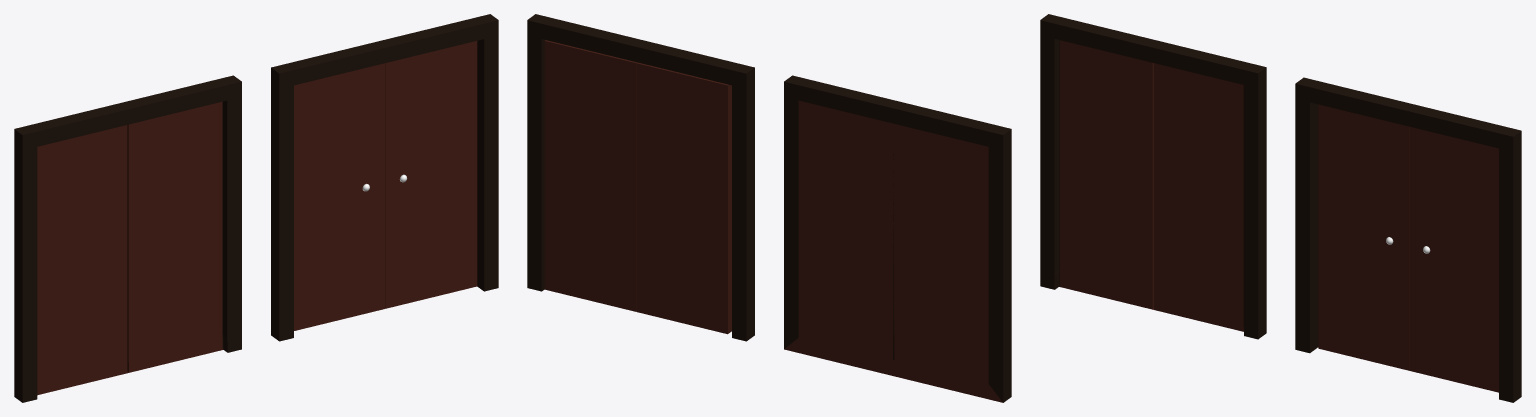
Rendered from Double Door Openable v002.FBX.
3 views of the same model, side by side, from view 1: azimuth 30°, elevation 25°; view 2: azimuth 150°, elevation 25°; view 3: azimuth 330°, elevation 25° (orthographic).
Visible parts, largest first — view 1: Double Door Closed, Door 001, Door 002, Double Door Openable Frame; view 2: Double Door Closed, Door 002, Door 001, Double Door Openable Frame; view 3: Double Door Closed, Door 002, Door 001, Double Door Openable Frame.
Part boxes in pixels (left/top/right/bottom): Double Door Closed: left=14, top=75, right=241, bottom=402; Door 001: left=385, top=41, right=477, bottom=308; Door 002: left=294, top=63, right=385, bottom=330; Double Door Openable Frame: left=271, top=14, right=498, bottom=341; Double Door Closed: left=784, top=75, right=1011, bottom=402; Door 002: left=636, top=62, right=731, bottom=334; Door 001: left=544, top=40, right=637, bottom=311; Double Door Openable Frame: left=527, top=14, right=754, bottom=341; Double Door Closed: left=1040, top=14, right=1266, bottom=339; Door 002: left=1318, top=104, right=1409, bottom=370; Door 001: left=1409, top=126, right=1498, bottom=392; Double Door Openable Frame: left=1295, top=77, right=1521, bottom=402.
Size of the model in its own units: 6.51 by 3.52 by 0.2.
